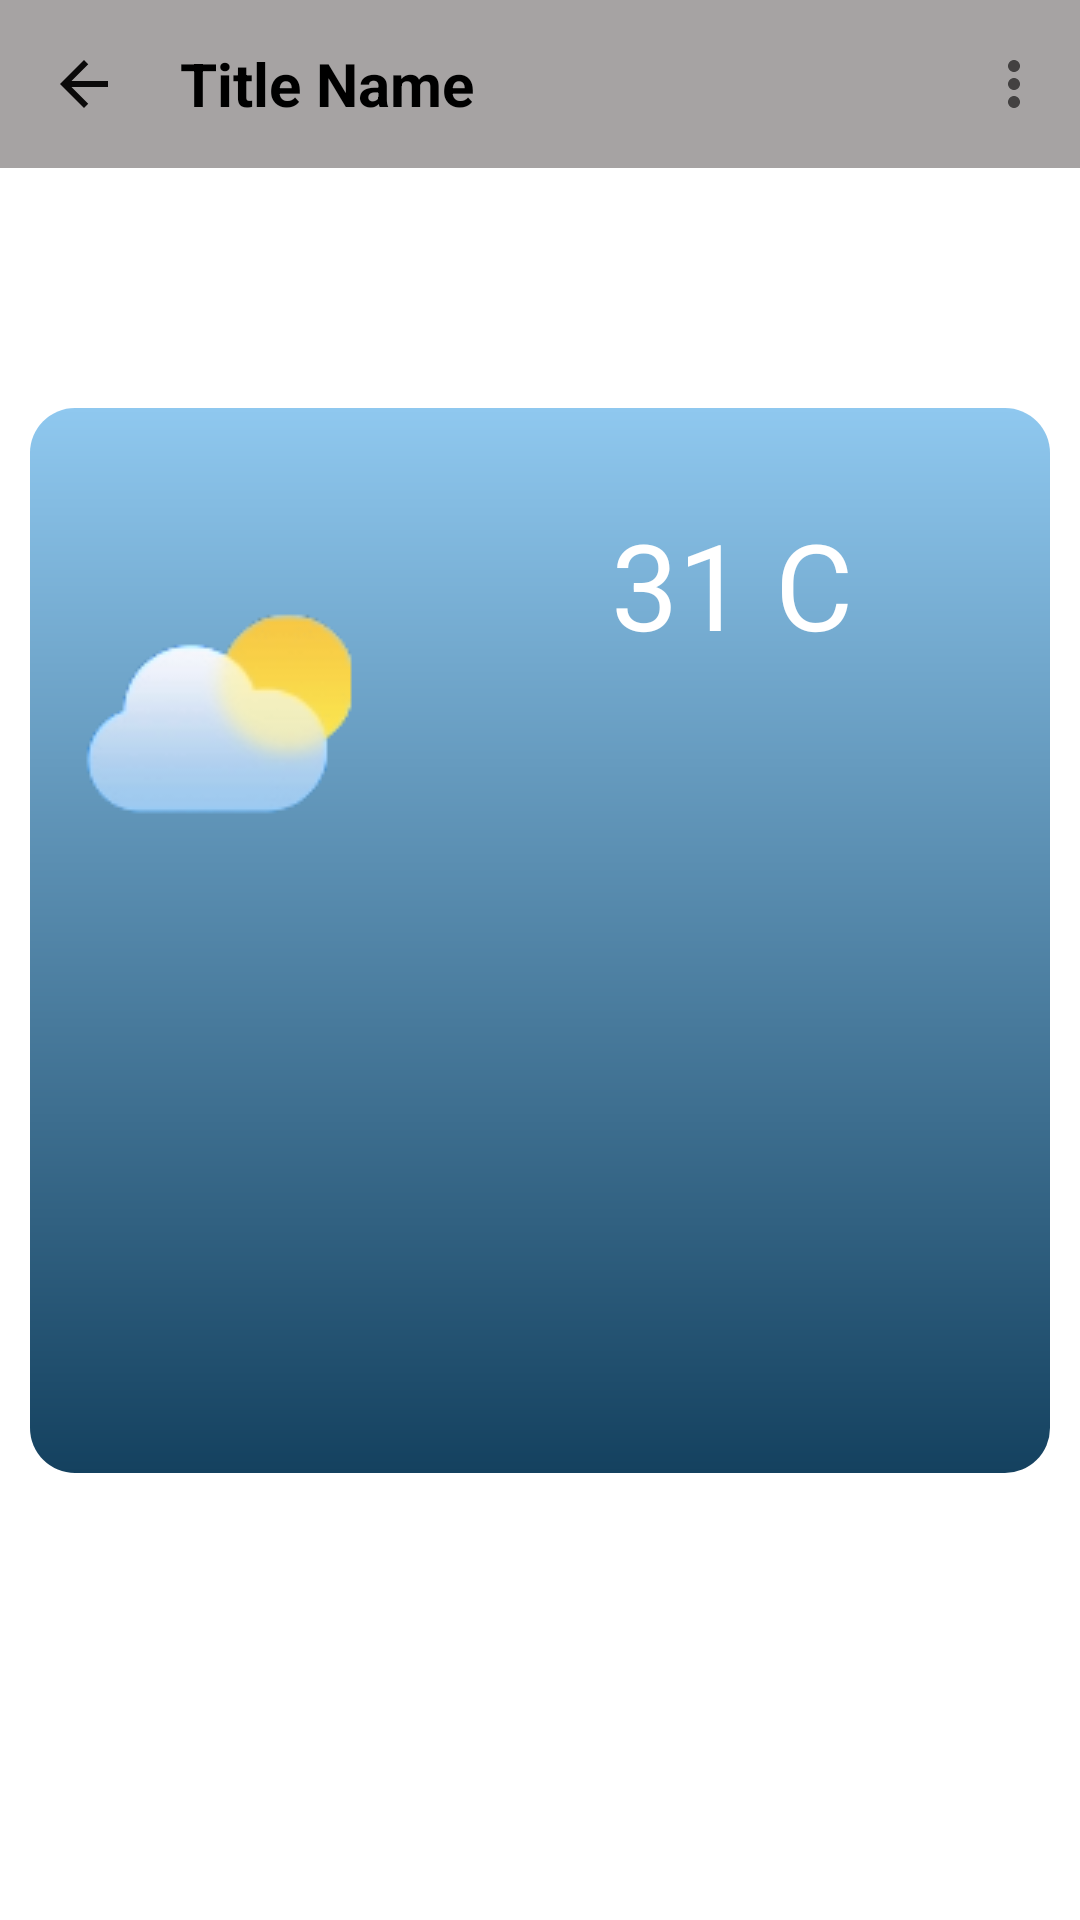

Icon bounding boxes for this 1080x1920 phone screenshot, format (x1, y1, x2, y2):
back arrow: (60, 60, 108, 108)
